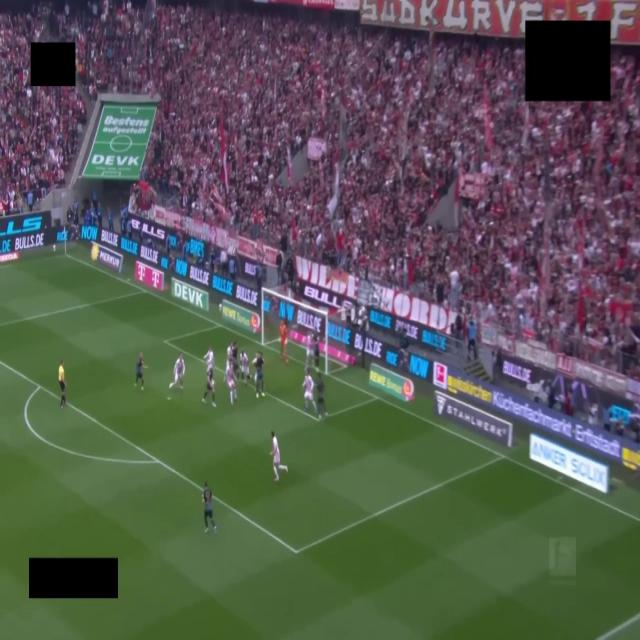player: (271, 432, 287, 481), (203, 481, 216, 533), (303, 369, 317, 412), (169, 353, 185, 389), (253, 352, 265, 397), (225, 360, 237, 404), (203, 367, 216, 407), (316, 372, 327, 416), (135, 352, 145, 390), (280, 320, 288, 363), (240, 350, 249, 385), (306, 333, 313, 367), (204, 347, 214, 370), (232, 342, 238, 377), (314, 335, 319, 370), (227, 344, 232, 361)
referee: (58, 360, 66, 408)
